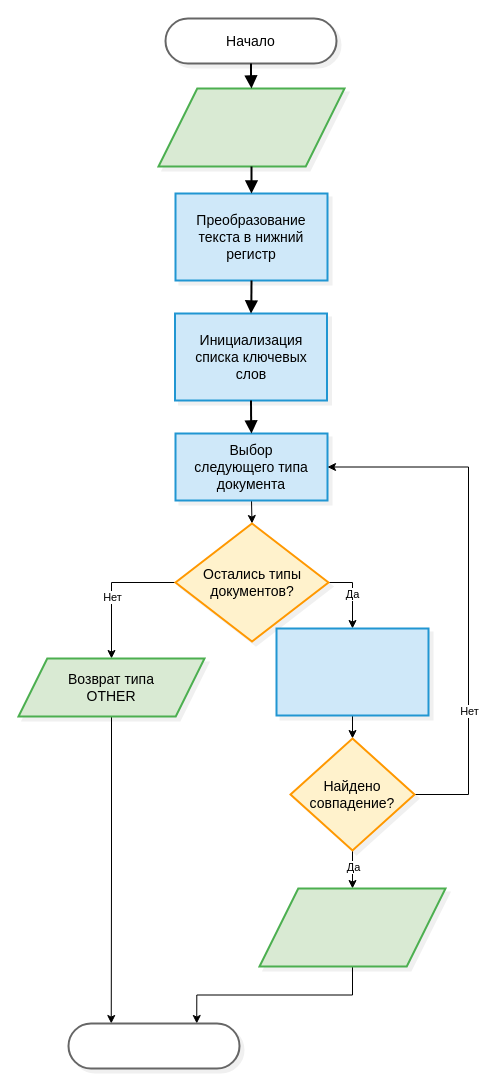
This 495x1090 diagram has some shape labels left out. Each missing label, with the centre of its shape:
Возврат идентификатора типа: the point at 354,929
Конец: the point at 155,1047
Получение распознанного OCR-текста: the point at 253,129
Проверка ключевых слов текущего типа: the point at 354,673
